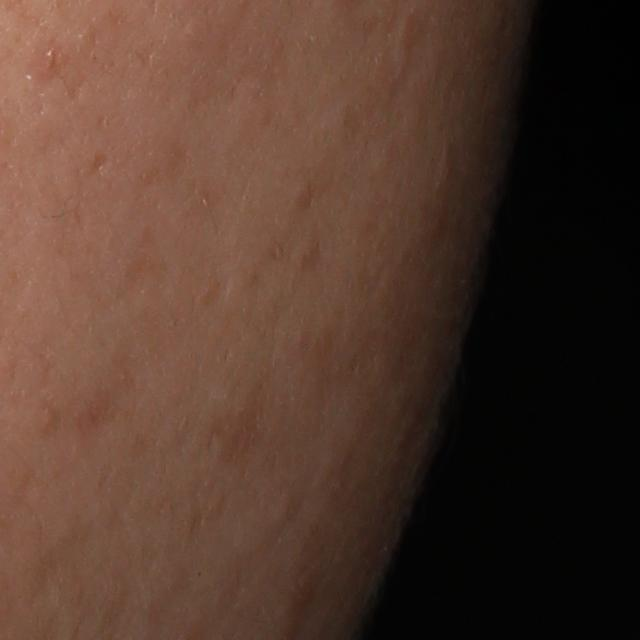atrophic_scar: (87, 149, 107, 177)
comedo: (39, 407, 57, 429)
